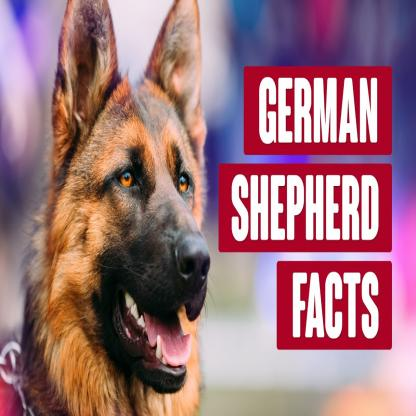dog: (20, 4, 208, 416)
